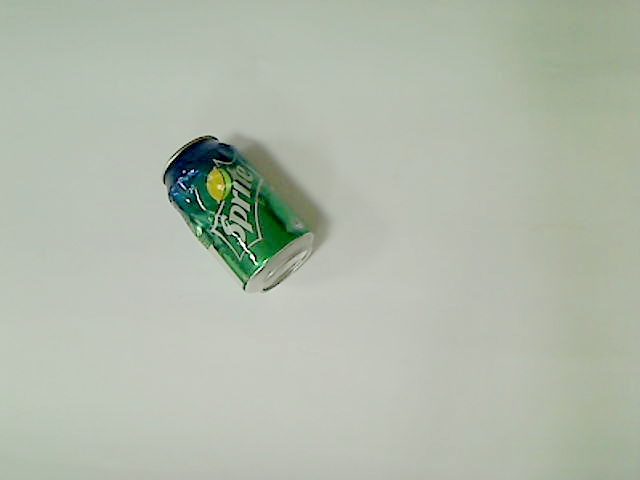can: (158, 131, 322, 300)
